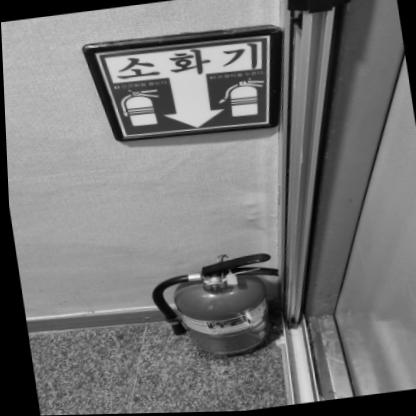FE: (145, 251, 286, 363)
